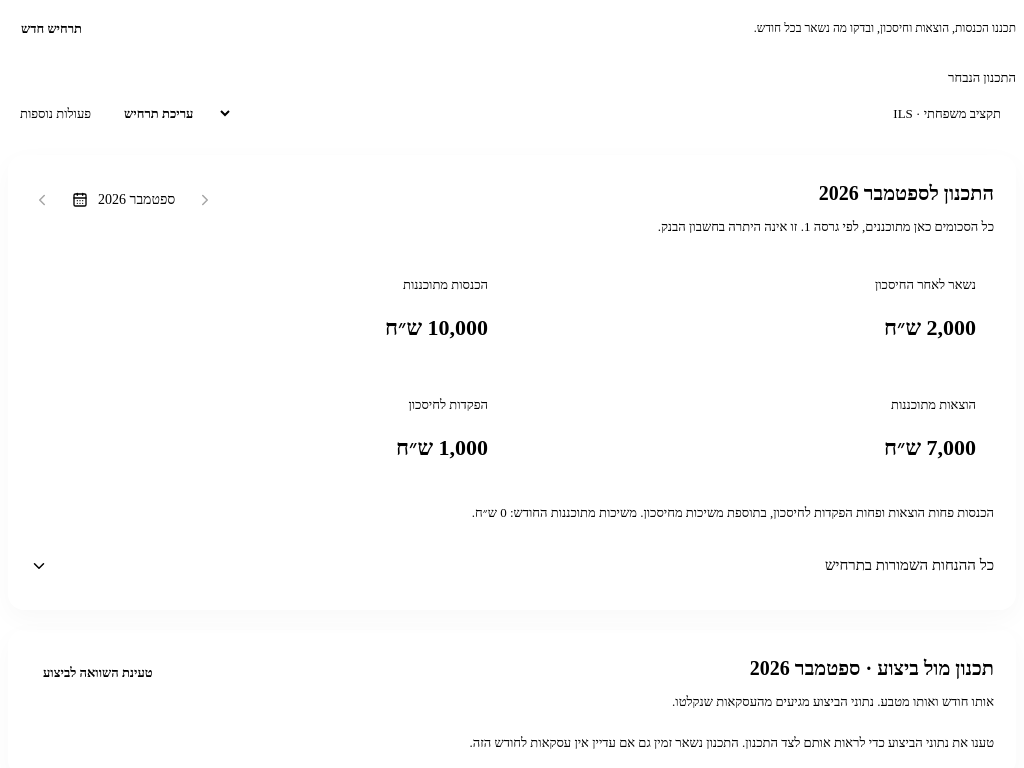
Test: Planning feature presentation › keeps missing actuals unavailable and labels partial observed data
Click the button "טעינת השוואה לביצוע".
click(98, 673)  # box 30,652 -> 166,694
(page scrolled)
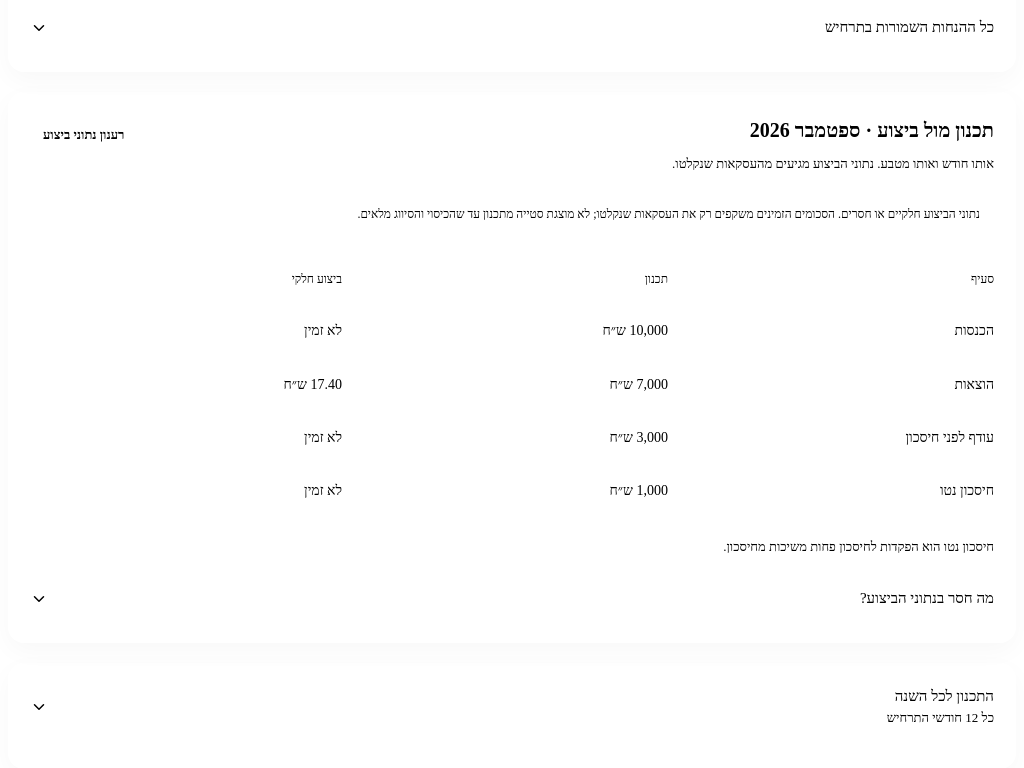
Expected: the column heading "ביצוע חלקי" is shown, 292,272 -> 342,286
Expected: the text "17.40 ש״ח" is shown, 284,377 -> 342,392
Expected: the text "לא זמין" is shown 3 times, 304,323 -> 342,338; 304,430 -> 342,445; 304,483 -> 342,498
